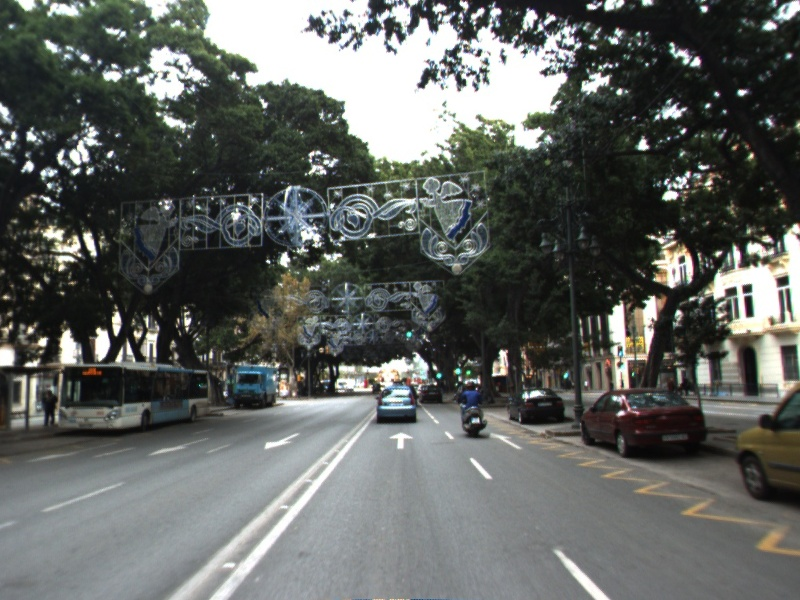STRAIGHT: (488, 431, 525, 451), (387, 430, 415, 451)
